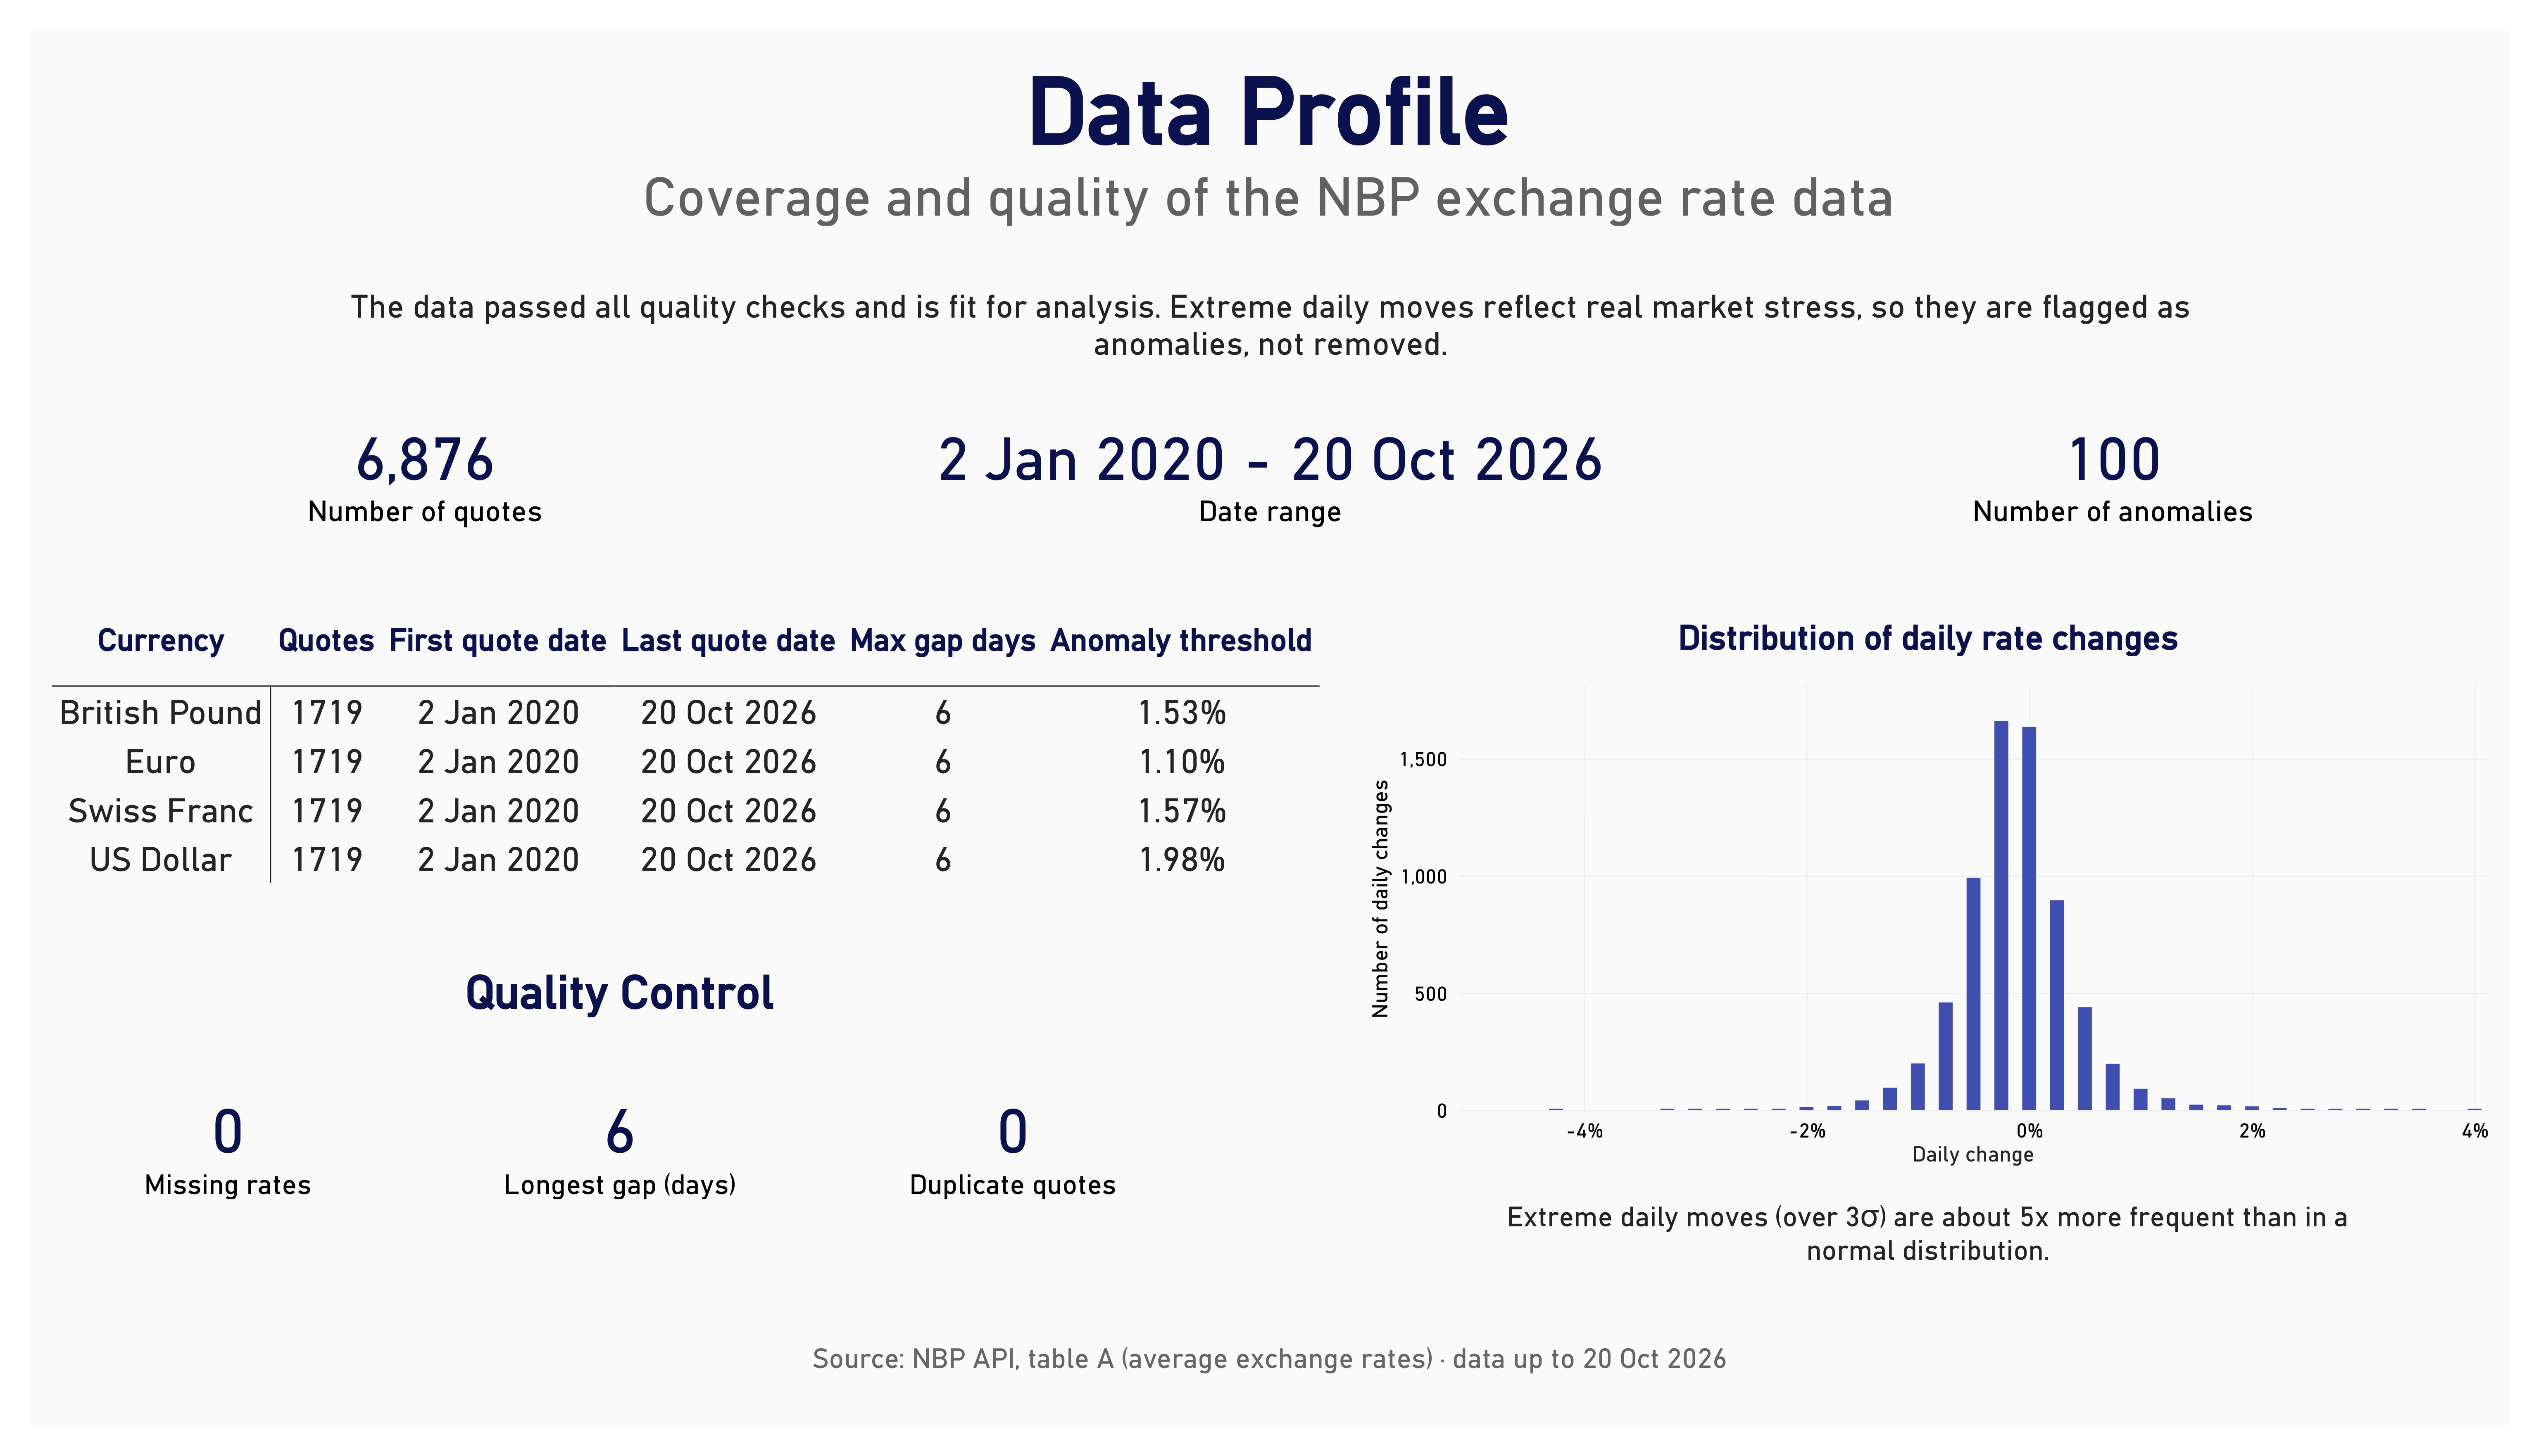

What the dashboard file says about the page in this screenshot:
{"tool":"powerbi","page":{"name":"Data Profile","canvas":[1920,1080],"ordinal":1},"visuals":[{"type":"cardVisual","fields":{"Data":[".Measures.Quote Count Label"]},"box":[101.3,262.7,408,164],"z":0},{"type":"cardVisual","fields":{"Data":[".Measures.Date Range"]},"box":[600,262.7,720,164],"z":1000},{"type":"cardVisual","fields":{"Data":[".Measures.Anomaly Count"]},"box":[1409.3,262.7,406.7,164],"z":2000},{"type":"pivotTable","fields":{"Rows":["Currencies.CurrencyName"],"Values":[".Measures.Quote Count",".Measures.First Quote Date",".Measures.Last Quote Date",".Measures.Max Gap Days",".Measures.Anomaly Threshold"]},"box":[0,440,1018.7,258.7],"z":3000},{"type":"clusteredColumnChart","title":"Distribution of daily rate changes","fields":{"Category":["Rates.DailyChange (bins)"],"Y":[".Measures.Quote Count"]},"box":[1018.7,440,901.3,454.7],"z":4000},{"type":"cardVisual","fields":{"Data":[".Measures.Profile Summary"]},"box":[221.3,168,1477.3,117.3],"z":5000},{"type":"cardVisual","fields":{"Data":[".Measures.Missing Rates"]},"box":[-0.2,785.3,305.1,160.4],"z":6000},{"type":"textbox","title":"Quality Control","box":[240,722.7,432,49.3],"z":7000},{"type":"cardVisual","fields":{"Data":[".Measures.Duplicate Quotes"]},"box":[607.8,785.3,305.1,160.4],"z":8000},{"type":"cardVisual","fields":{"Data":[".Measures.Max Gap Days"]},"box":[304,785.3,304,160],"z":9000},{"type":"textbox","title":"Data Profile","box":[305.3,20,1308,146.7],"z":10000},{"type":"cardVisual","fields":{"Data":[".Measures.Source Line"]},"box":[470.7,1000,977.3,54.7],"z":11000},{"type":"cardVisual","fields":{"Data":[".Measures.Distribution Note"]},"box":[1121.3,865.3,696,129.3],"z":12000}]}

Visuals, with their boxes on the page's 1920x1080 design canvas (x1, y1, x2, y2). These are canvas units, not pixel positions in the 2541x1456 screenshot, which may show the page scaled, cropped or inside an application window:
cardVisual - .Measures.Quote Count Label: [left=101, top=263, right=509, bottom=427]
cardVisual - .Measures.Date Range: [left=600, top=263, right=1320, bottom=427]
cardVisual - .Measures.Anomaly Count: [left=1409, top=263, right=1816, bottom=427]
pivotTable - Currencies.CurrencyName x .Measures.Quote Count: [left=0, top=440, right=1019, bottom=699]
"Distribution of daily rate changes" clusteredColumnChart: [left=1019, top=440, right=1920, bottom=895]
cardVisual - .Measures.Profile Summary: [left=221, top=168, right=1699, bottom=285]
cardVisual - .Measures.Missing Rates: [left=0, top=785, right=305, bottom=946]
"Quality Control" textbox: [left=240, top=723, right=672, bottom=772]
cardVisual - .Measures.Duplicate Quotes: [left=608, top=785, right=913, bottom=946]
cardVisual - .Measures.Max Gap Days: [left=304, top=785, right=608, bottom=945]
"Data Profile" textbox: [left=305, top=20, right=1613, bottom=167]
cardVisual - .Measures.Source Line: [left=471, top=1000, right=1448, bottom=1055]
cardVisual - .Measures.Distribution Note: [left=1121, top=865, right=1817, bottom=995]
